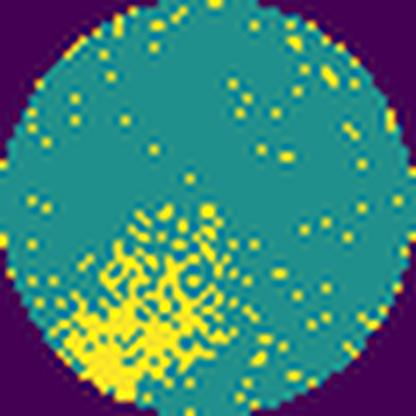Loc: (50, 241, 236, 403)
